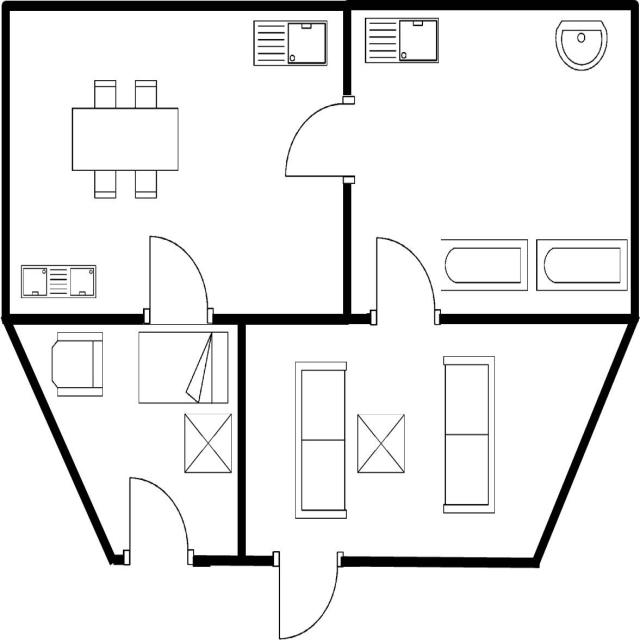armchair: (46, 326, 112, 402)
bed: (134, 325, 232, 407)
coffee_table: (351, 407, 410, 478), (180, 408, 236, 477)
dining_table: (67, 72, 183, 202)
large_sofa: (288, 354, 350, 525), (436, 349, 498, 519)
sink: (249, 15, 331, 73), (359, 12, 445, 67)
small_sink: (549, 15, 613, 74)
tub: (531, 232, 629, 301), (431, 232, 533, 298)
twin_sink: (16, 259, 99, 304)
